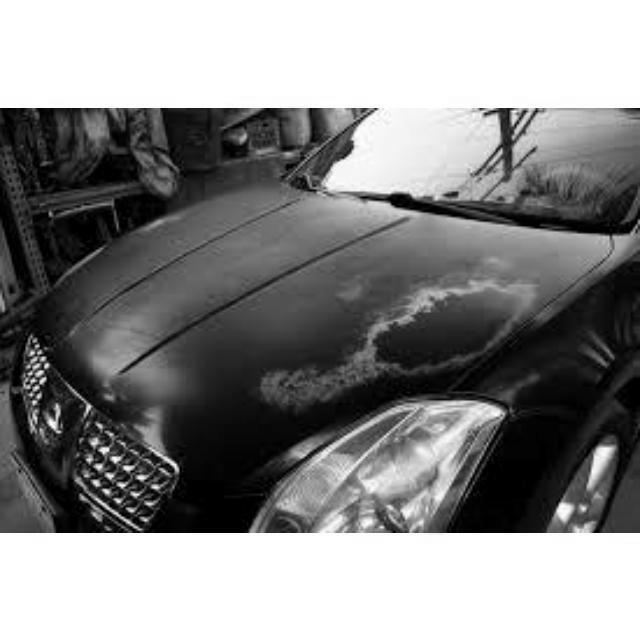bonnet-dent: (108, 203, 517, 389)
